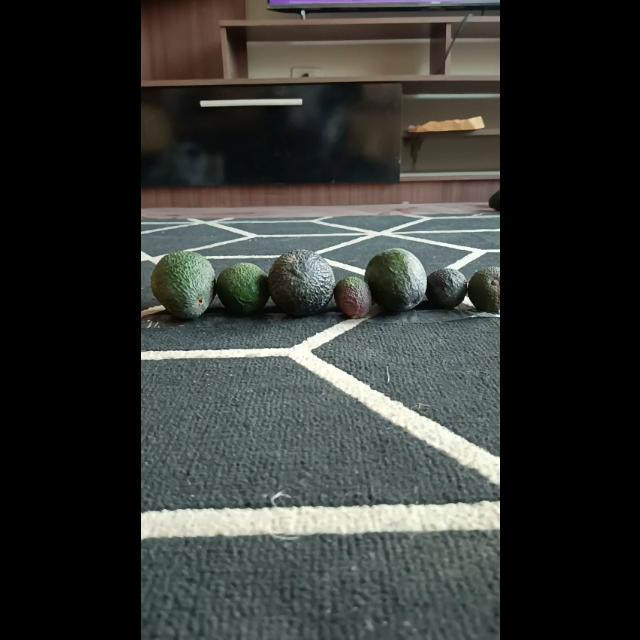Primera: (148, 250, 216, 318), (267, 248, 335, 316), (362, 247, 428, 311)
Segunda: (213, 261, 269, 315)
Tercera: (424, 267, 468, 309), (332, 276, 372, 318), (467, 266, 499, 314)
